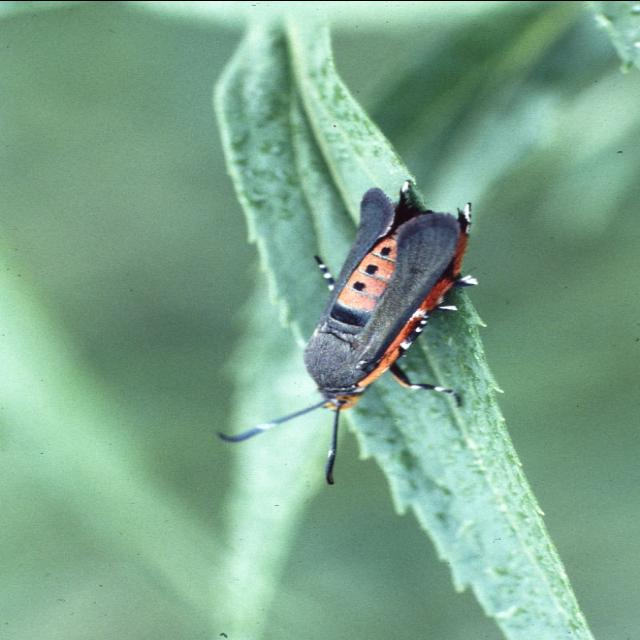squash_vine_borer: (202, 180, 494, 500)
